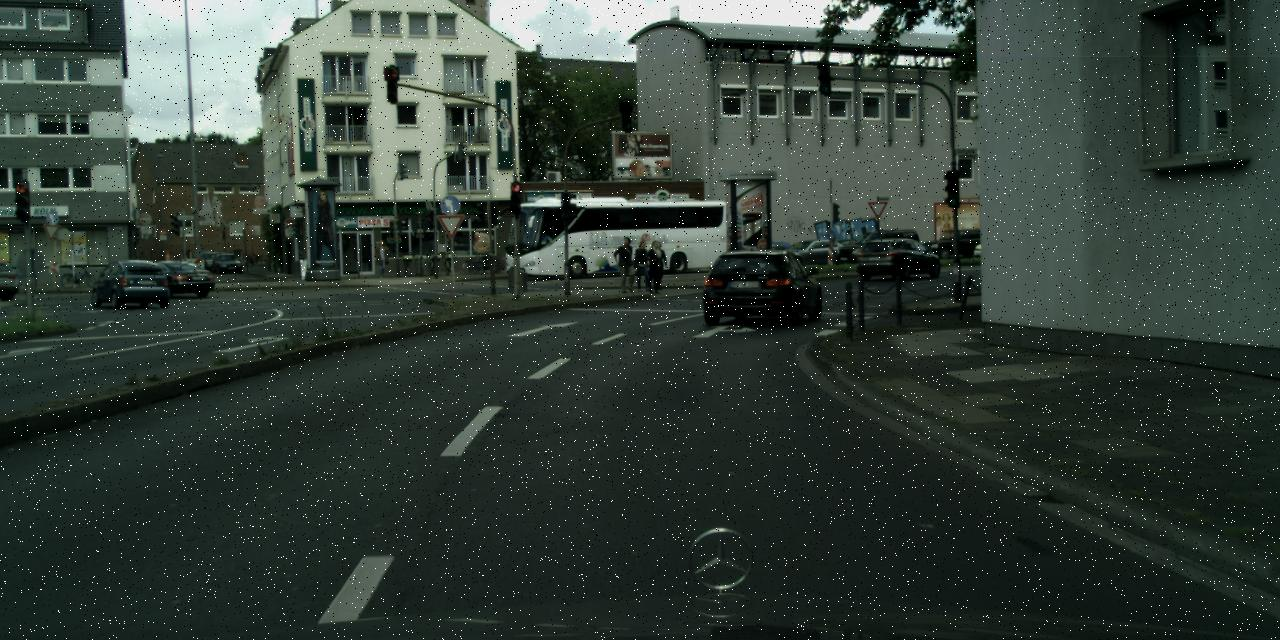ped: (616, 237, 638, 290), (633, 239, 653, 289), (373, 240, 388, 278)
